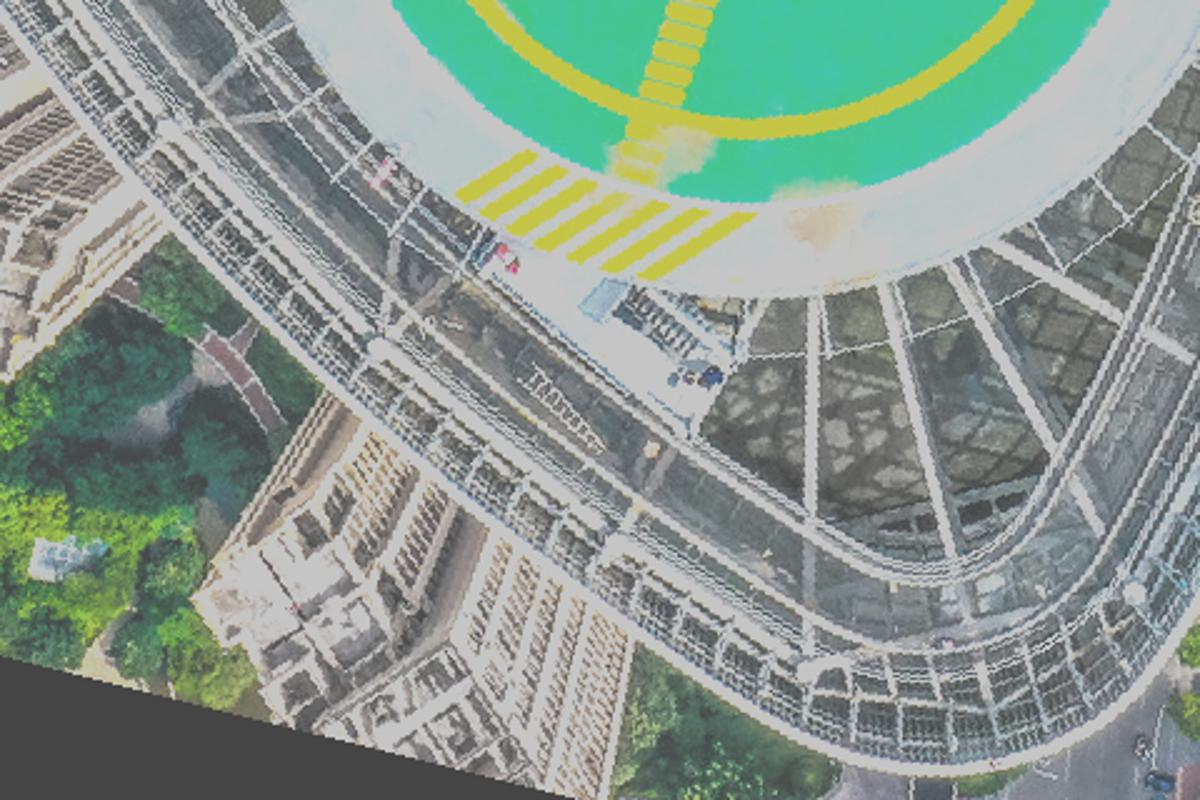Apron: (546, 1, 938, 124)
